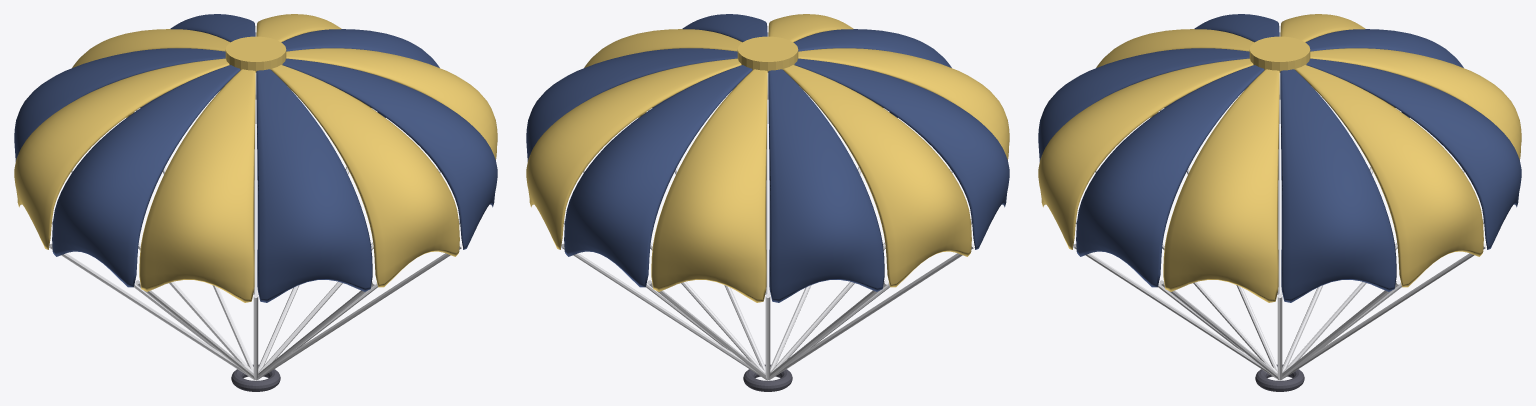
Rendered from parachute.fbx.
The picture shows the model from 3 angles, left to right: view 1: azimuth 30°, elevation 25°; view 2: azimuth 150°, elevation 25°; view 3: azimuth 270°, elevation 25°; orthographic projection.
Visible parts, largest first — view 1: CanopyNavy, CanopyGold, ApexVent, Line6, Line10, Line7, HarnessRing, Line9, Line2, Line0, Line4, Line1 (+2 smaller); view 2: CanopyNavy, CanopyGold, ApexVent, Line6, Line2, Line5, HarnessRing, Line3, Line10, Line0, Line8, Line11 (+2 smaller); view 3: CanopyNavy, CanopyGold, ApexVent, Line10, Line2, Line1, Line11, HarnessRing, Line6, Line4, Line8, Line5 (+2 smaller).
Part boxes in pixels (x1,y1,x2,y2): CanopyNavy: [14, 14, 497, 302]; CanopyGold: [14, 14, 497, 302]; ApexVent: [225, 36, 286, 71]; Line6: [49, 243, 253, 379]; Line10: [258, 243, 462, 379]; Line7: [135, 280, 255, 380]; HarnessRing: [231, 364, 280, 391]; Line9: [256, 280, 376, 380]; Line2: [253, 95, 258, 294]; Line0: [258, 168, 440, 373]; Line4: [71, 168, 253, 372]; Line1: [258, 108, 375, 371]; CanopyNavy: [526, 14, 1009, 302]; CanopyGold: [526, 14, 1009, 302]; ApexVent: [737, 36, 798, 71]; Line6: [770, 243, 974, 379]; Line2: [561, 243, 765, 379]; Line5: [768, 280, 888, 380]; HarnessRing: [743, 364, 792, 391]; Line3: [647, 280, 767, 380]; Line10: [765, 95, 770, 294]; Line0: [583, 168, 765, 373]; Line8: [770, 168, 952, 372]; Line11: [648, 108, 765, 371]; CanopyNavy: [1038, 14, 1521, 302]; CanopyGold: [1038, 14, 1521, 302]; ApexVent: [1249, 36, 1310, 71]; Line10: [1073, 243, 1277, 379]; Line2: [1282, 243, 1486, 379]; Line1: [1280, 280, 1400, 380]; Line11: [1159, 280, 1279, 380]; HarnessRing: [1255, 364, 1304, 391]; Line6: [1277, 95, 1282, 294]; Line4: [1282, 168, 1464, 372]; Line8: [1095, 168, 1277, 372]; Line5: [1282, 108, 1399, 371].
Size of the model in its own units: 6.06 by 4.62 by 6.06.
